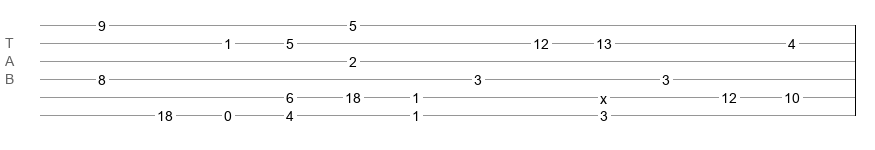0: (224, 108, 232, 118)
1: (224, 36, 232, 46), (412, 90, 420, 100), (412, 108, 420, 118)
10: (784, 90, 800, 100)
12: (533, 36, 549, 46), (721, 90, 737, 100)
13: (596, 36, 612, 46)
18: (157, 108, 173, 118), (345, 90, 361, 100)
2: (349, 54, 357, 64)
3: (474, 72, 482, 82), (600, 108, 608, 118), (662, 72, 670, 82)
4: (286, 108, 294, 118), (788, 36, 796, 46)
5: (286, 36, 294, 46), (349, 18, 357, 28)
6: (286, 90, 294, 100)
8: (98, 72, 106, 82)
9: (98, 18, 106, 28)
x: (600, 91, 607, 99)
